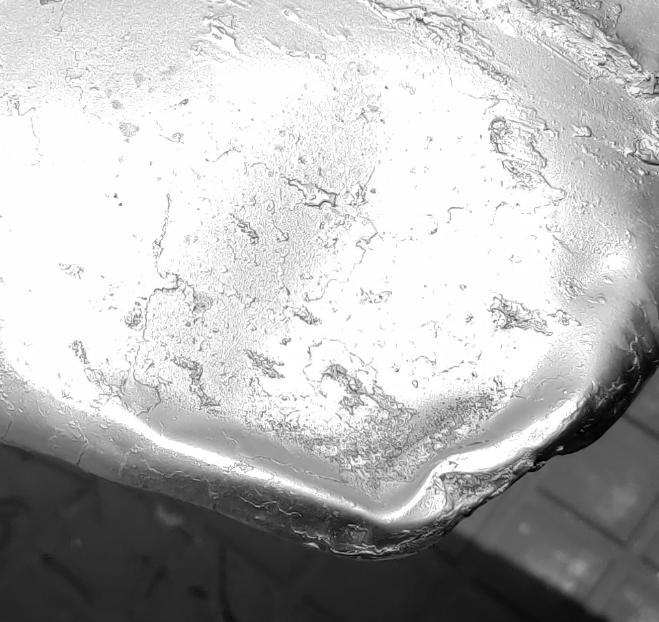dent: (1, 1, 659, 622)
